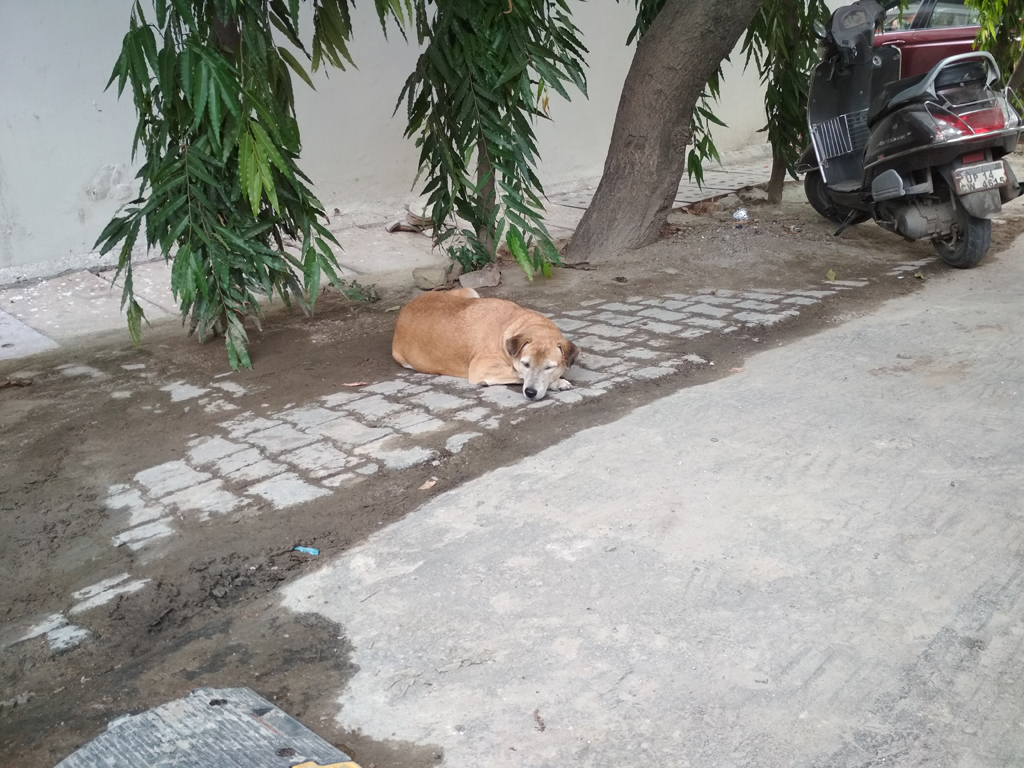dog: (392, 287, 583, 401)
